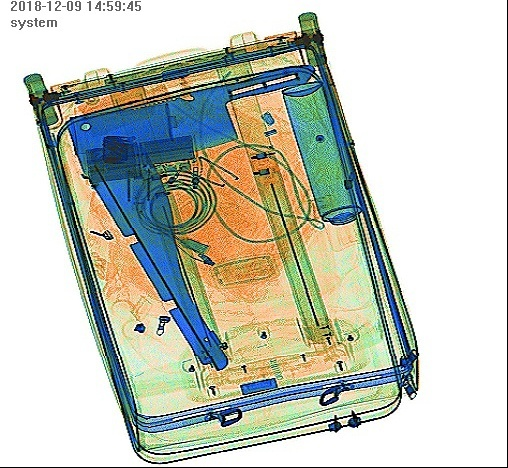knife: (65, 61, 315, 177)
powerbank: (81, 132, 196, 183)
pressure: (276, 74, 376, 252)
